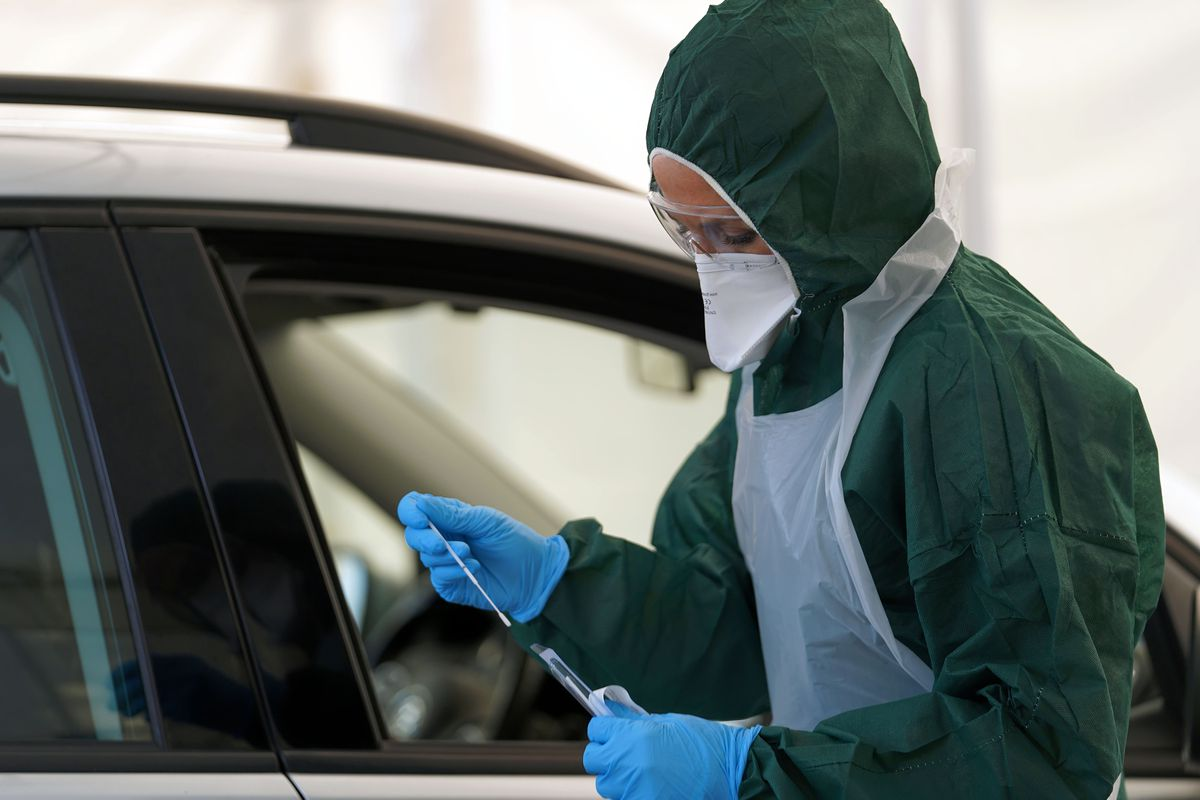Coverall: (512, 3, 1168, 800)
Gloves: (391, 484, 576, 627), (577, 699, 769, 800)
Goggles: (638, 176, 795, 283)
with_mask: (659, 170, 791, 381)
